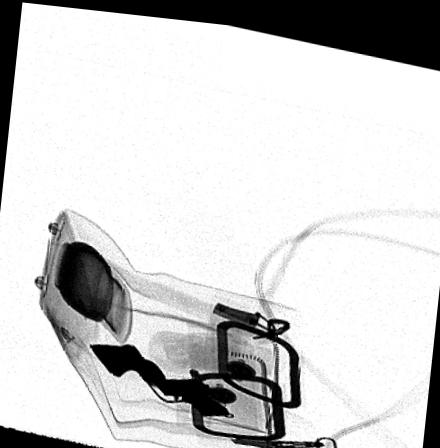Gun: (89, 341, 231, 413)
